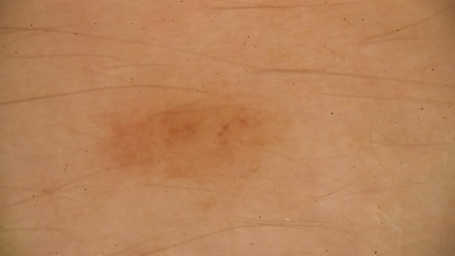nevus: (108, 97, 274, 173)
